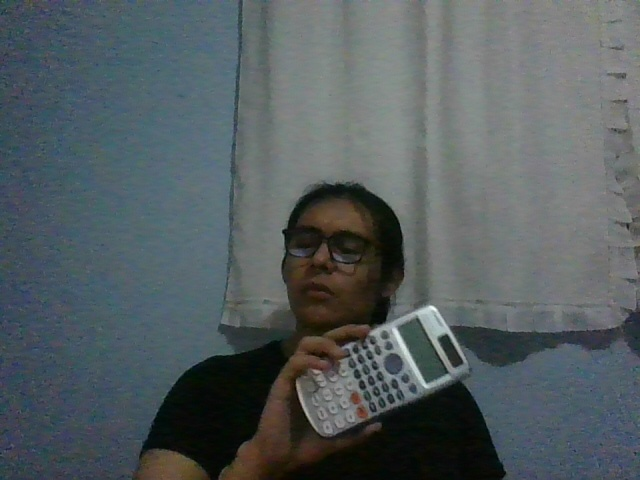calculadora: (295, 303, 471, 439)
